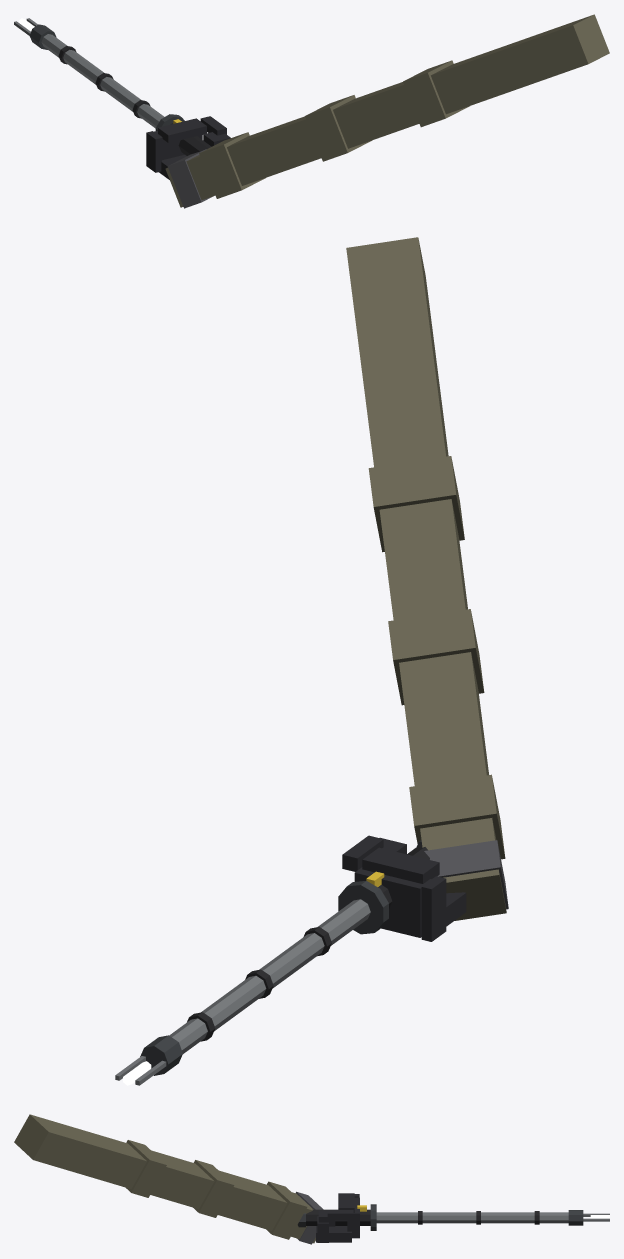
The model's file is baton.glb.
3 renders of one model, top to bottom at view 1: azimuth 30°, elevation 25°; view 2: azimuth 150°, elevation 25°; view 3: azimuth 270°, elevation 25°, orthographic. The views are drawn at different scales.
Visible parts, largest first — view 1: TR_Forearm, T_Shaft, TR_Wrap1, TR_Wrap2, TR_Wrap0, TR_Bracelet, TR_Tips, TR_Knuckles, T_Grip, TR_Fingers, T_Head, TR_Thumb; view 2: TR_Forearm, T_Shaft, TR_Wrap1, TR_Wrap2, TR_Wrap0, TR_Bracelet, TR_Fingers, TR_Tips, T_Guard, TR_Knuckles; view 3: TR_Forearm, T_Shaft, TR_Wrap1, TR_Wrap0, TR_Wrap2, T_Grip, TR_Bracelet, TR_Palm, TR_Fingers, TR_Thumb, TR_Tips, TR_Web (+1 smaller).
Part boxes in pixels (<box>): TR_Forearm: <box>165,14,609,207</box>; T_Shaft: <box>41,34,164,128</box>; TR_Wrap1: <box>305,95,371,161</box>; TR_Wrap2: <box>403,60,469,127</box>; TR_Wrap0: <box>199,132,265,198</box>; TR_Bracelet: <box>167,149,213,208</box>; TR_Tips: <box>158,118,206,142</box>; TR_Knuckles: <box>146,131,161,172</box>; T_Grip: <box>170,123,211,155</box>; TR_Fingers: <box>154,130,202,160</box>; T_Head: <box>29,24,56,49</box>; TR_Thumb: <box>200,116,226,135</box>; TR_Forearm: <box>346,237,506,920</box>; T_Shaft: <box>169,899,370,1053</box>; TR_Wrap1: <box>388,609,484,705</box>; TR_Wrap2: <box>368,456,464,552</box>; TR_Wrap0: <box>409,774,505,859</box>; TR_Bracelet: <box>424,840,508,909</box>; TR_Fingers: <box>354,867,431,937</box>; TR_Tips: <box>362,847,439,883</box>; T_Guard: <box>338,881,388,934</box>; TR_Knuckles: <box>421,876,446,941</box>; TR_Forearm: <box>14,1114,315,1243</box>; T_Shaft: <box>376,1212,568,1223</box>; TR_Wrap1: <box>193,1160,234,1217</box>; TR_Wrap0: <box>266,1181,307,1239</box>; TR_Wrap2: <box>126,1140,166,1197</box>; T_Grip: <box>306,1209,370,1225</box>; TR_Bracelet: <box>296,1191,323,1244</box>; TR_Palm: <box>316,1226,351,1242</box>; TR_Fingers: <box>347,1197,359,1238</box>; TR_Thumb: <box>327,1210,353,1220</box>; TR_Tips: <box>338,1193,354,1212</box>; TR_Web: <box>317,1216,328,1242</box>.
Bounding box in the file's own units: 0.5028 × 0.46 × 1.23.
